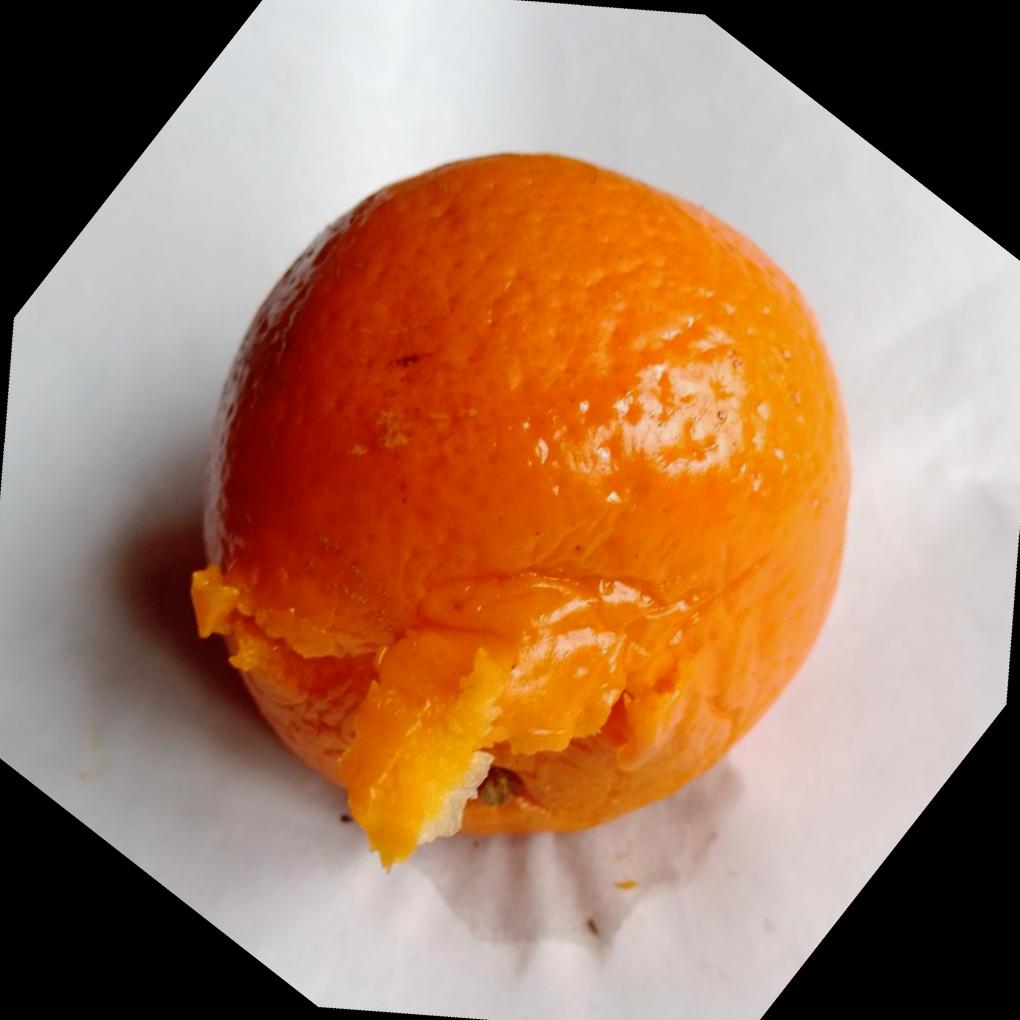FreshOrange: (183, 149, 853, 873)
